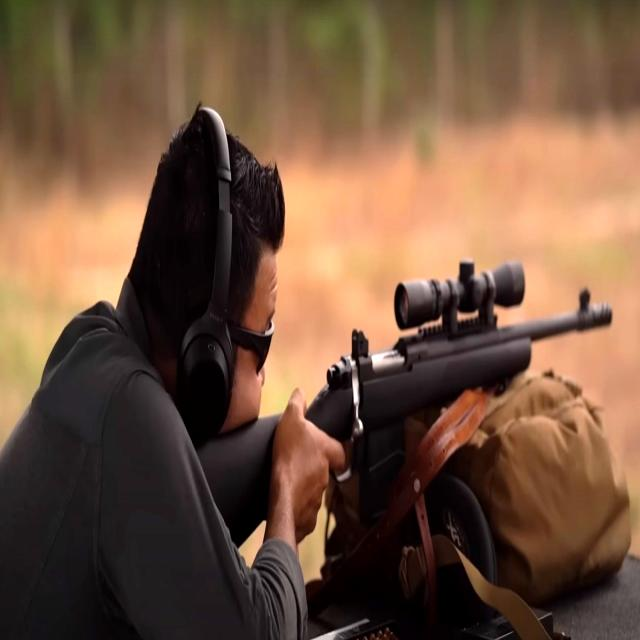rifle: (177, 243, 622, 554)
